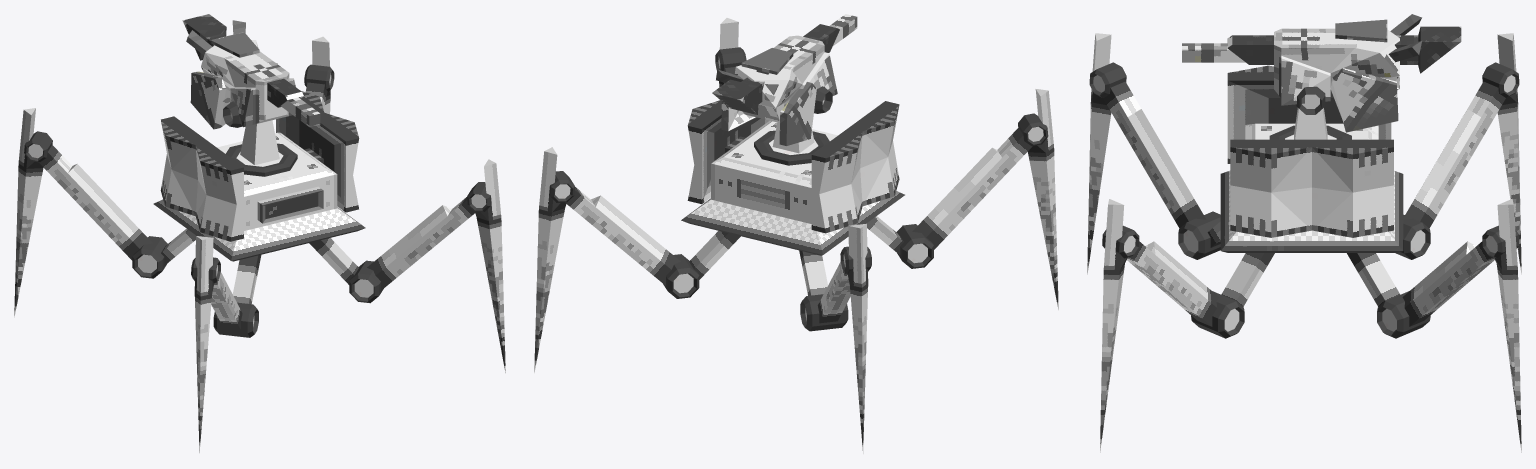
Rendered from Shotgun Robot.glb.
3 views of the same model, side by side, from view 1: azimuth 30°, elevation 25°; view 2: azimuth 150°, elevation 25°; view 3: azimuth 270°, elevation 25° (orthographic). The views are drawn at different scales.
Visible parts, largest first — view 1: Armor, Frame, shotgun, middle leg.002, middle leg.001, lower leg.001, lower leg.002, lower leg, shotgun muzzle, root, Turner, middle leg (+10 smaller); view 2: Armor, Frame, shotgun, middle leg, middle leg.003, lower leg.003, lower leg, lower leg.002, shotgun muzzle, Turner, middle leg.002, upper elbow (+9 smaller); view 3: Armor, shotgun, Frame, middle leg, middle leg.002, middle leg.001, middle leg.003, lower leg.003, lower leg.001, shotgun muzzle, lower leg, lower leg.002 (+13 smaller).
Part boxes in pixels (x1=…): Armor: x1=160, y1=91, x2=359, y2=241; Frame: x1=153, y1=132, x2=365, y2=261; shotgun: x1=186, y1=20, x2=320, y2=129; middle leg.002: x1=39, y1=145, x2=152, y2=260; middle leg.001: x1=367, y1=197, x2=475, y2=290; lower leg.001: x1=475, y1=159, x2=505, y2=372; lower leg.002: x1=14, y1=108, x2=43, y2=317; lower leg: x1=194, y1=236, x2=213, y2=452; shotgun muzzle: x1=182, y1=14, x2=303, y2=107; root: x1=240, y1=120, x2=279, y2=165; Turner: x1=226, y1=143, x2=297, y2=176; middle leg: x1=211, y1=272, x2=242, y2=330; Armor: x1=687, y1=100, x2=899, y2=233; Frame: x1=681, y1=120, x2=904, y2=255; shotgun: x1=716, y1=14, x2=857, y2=145; middle leg: x1=912, y1=128, x2=1032, y2=249; middle leg.003: x1=565, y1=187, x2=680, y2=285; lower leg.003: x1=534, y1=147, x2=566, y2=372; lower leg: x1=1028, y1=89, x2=1058, y2=309; lower leg.002: x1=847, y1=223, x2=868, y2=453; shotgun muzzle: x1=712, y1=24, x2=839, y2=114; Turner: x1=754, y1=130, x2=829, y2=165; middle leg.002: x1=817, y1=262, x2=850, y2=323; upper elbow: x1=896, y1=224, x2=933, y2=268; Armor: x1=1227, y1=65, x2=1393, y2=237; shotgun: x1=1182, y1=14, x2=1421, y2=132; Frame: x1=1220, y1=123, x2=1403, y2=252; middle leg: x1=1103, y1=81, x2=1206, y2=228; middle leg.002: x1=1403, y1=81, x2=1505, y2=228; middle leg.001: x1=1127, y1=241, x2=1218, y2=326; middle leg.003: x1=1402, y1=241, x2=1494, y2=326; lower leg.003: x1=1494, y1=199, x2=1521, y2=452; lower leg.001: x1=1100, y1=199, x2=1127, y2=452; shotgun muzzle: x1=1227, y1=26, x2=1461, y2=73; lower leg: x1=1087, y1=33, x2=1111, y2=274; lower leg.002: x1=1497, y1=33, x2=1521, y2=274.
Size of the model in its own units: 6.83 by 6.02 by 7.04.
2 materials, 2 textured.
